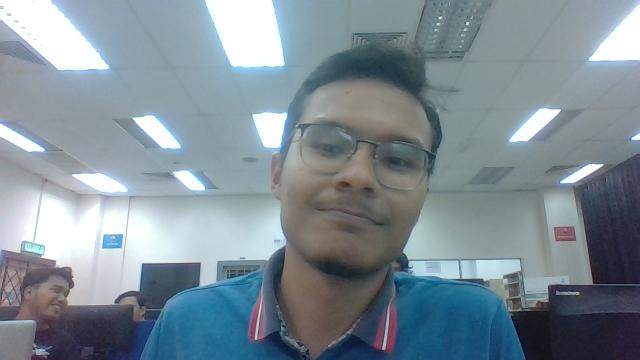senang: (267, 59, 450, 279)
